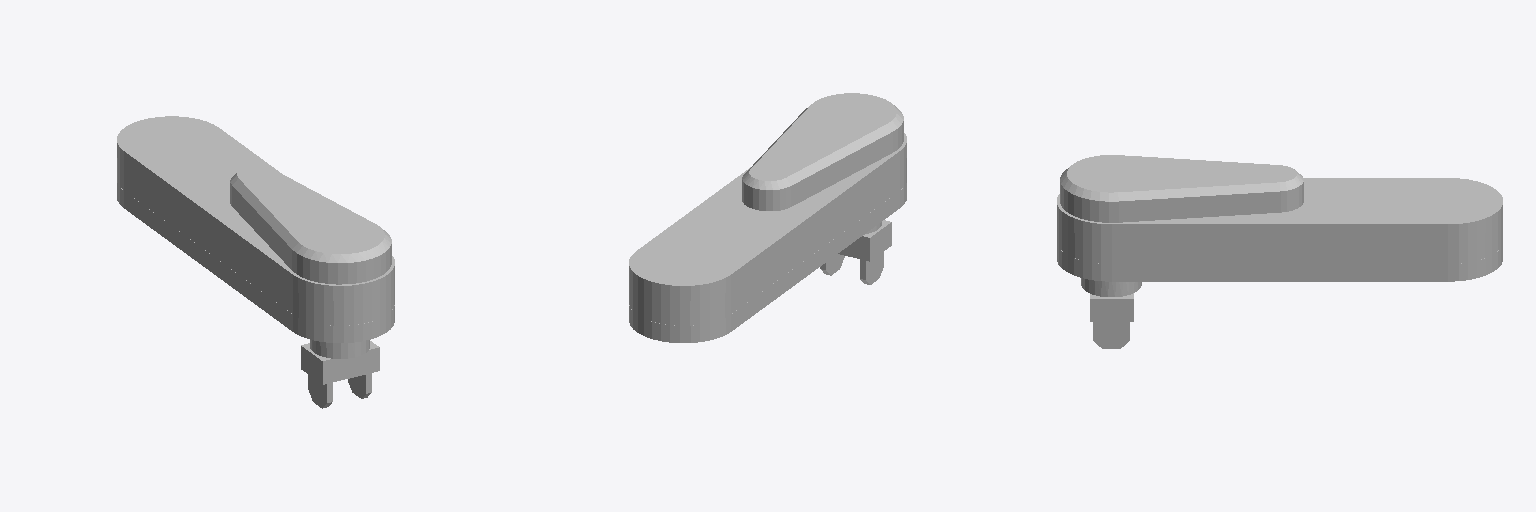
Rendered from J2-axis.obj.
3 views of the same model, side by side, from view 1: azimuth 30°, elevation 25°; view 2: azimuth 150°, elevation 25°; view 3: azimuth 270°, elevation 25° (orthographic).
Visible parts, largest first — view 1: J2-axis; view 2: J2-axis; view 3: J2-axis.
Boxes of the visible parts, x1,y1,x2,y2 form: J2-axis: [117, 116, 394, 408]; J2-axis: [629, 93, 906, 342]; J2-axis: [1057, 155, 1502, 348].
Size of the model in its own units: 80 by 132 by 325.